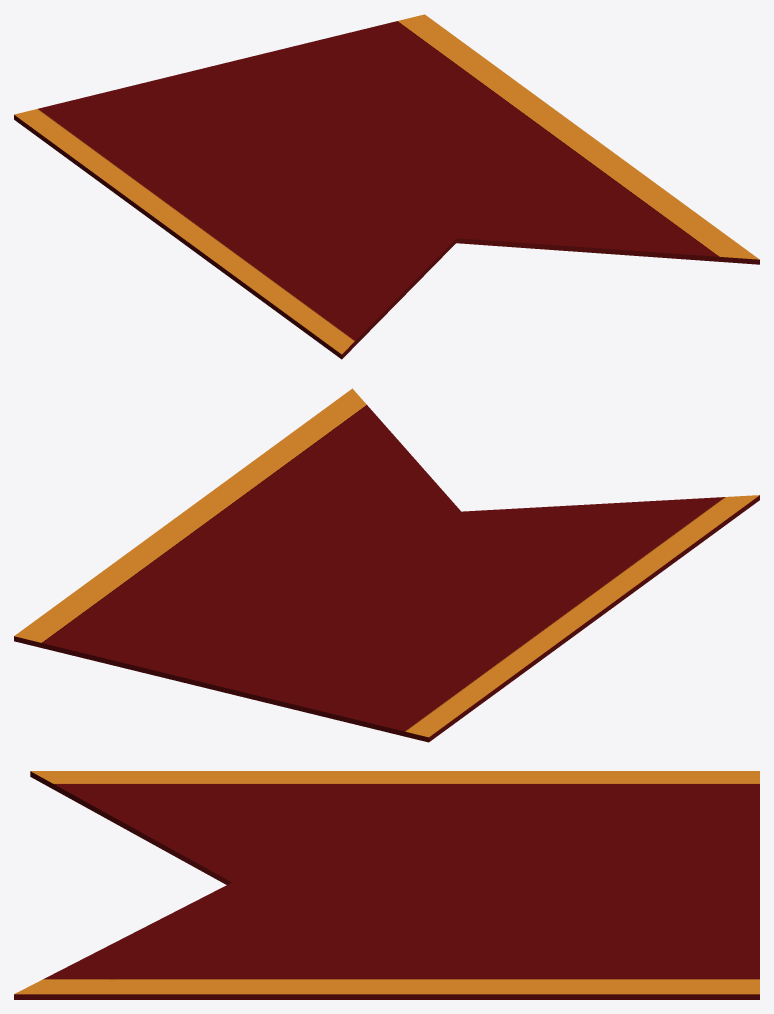
The model's file is flag.fbx.
The picture shows the model from 3 angles, top to bottom: view 1: azimuth 30°, elevation 25°; view 2: azimuth 150°, elevation 25°; view 3: azimuth 270°, elevation 25°; orthographic projection. The views are drawn at different scales.
Parts seen in each view (by area): view 1: pCube1; view 2: pCube1; view 3: pCube1.
Part boxes in pixels (x1,y1,x2,y2): pCube1: (14,14,759,359); pCube1: (14,388,759,742); pCube1: (14,771,759,999).
Bounding box in the file's own units: 7.17 × 0.0841 × 10.14.
1 material, 1 textured.
